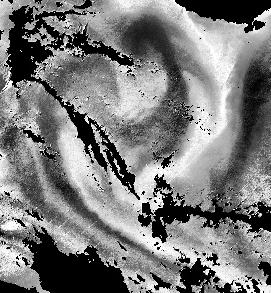AE: (31, 19, 216, 200)
